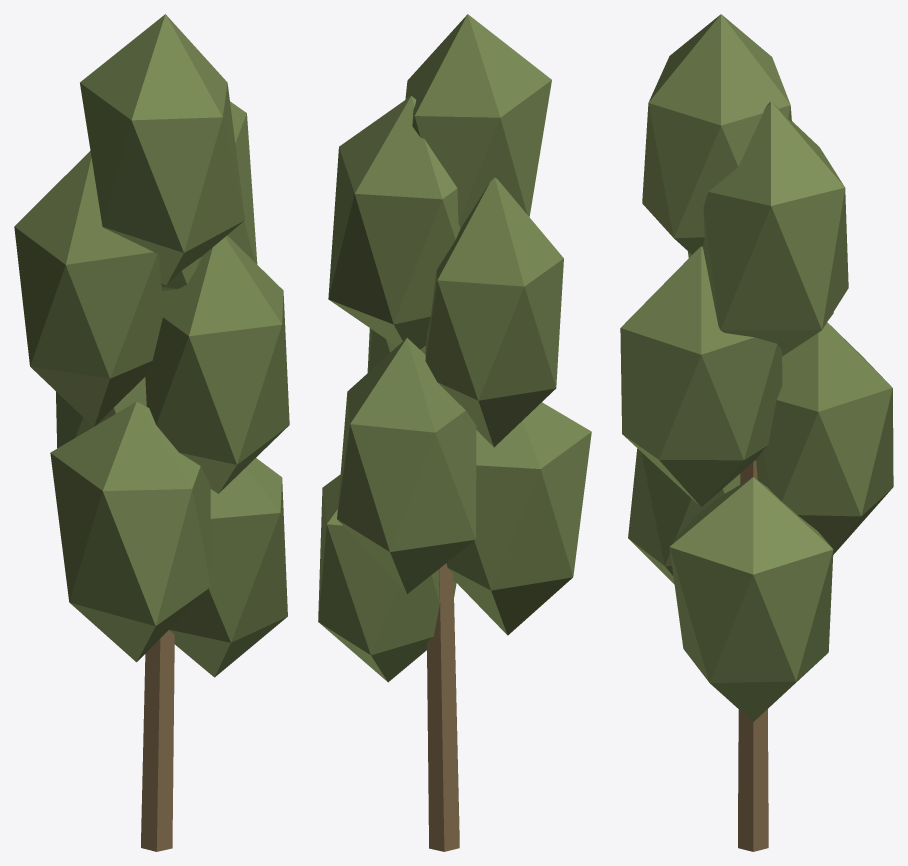
Rendered from tree_poplar.glb.
3 views of the same model, side by side, from view 1: azimuth 30°, elevation 25°; view 2: azimuth 150°, elevation 25°; view 3: azimuth 270°, elevation 25° (orthographic). The views are drawn at different scales.
Parts seen in each view (by area): view 1: tree_poplar_visual; view 2: tree_poplar_visual; view 3: tree_poplar_visual.
Part boxes in pixels (box(x1,y1,x2,y2)): tree_poplar_visual: box(14, 14, 289, 851); tree_poplar_visual: box(318, 14, 591, 851); tree_poplar_visual: box(620, 14, 893, 851).
Size of the model in its own units: 2.34 by 7.68 by 2.3.
